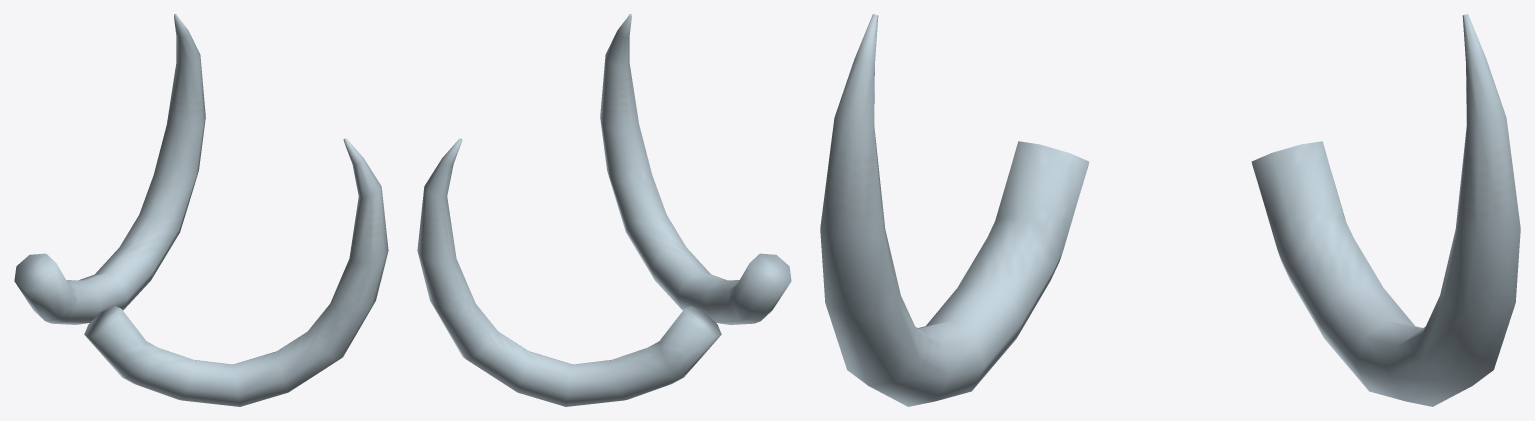
Rendered from Oni.glb.
The picture shows the model from 3 angles, left to right: view 1: azimuth 30°, elevation 25°; view 2: azimuth 150°, elevation 25°; view 3: azimuth 270°, elevation 25°; orthographic projection. The views are drawn at different scales.
Parts seen in each view (by area): view 1: Oni; view 2: Oni; view 3: Oni.
Boxes of the visible parts, x1,y1,x2,y2 form: Oni: (14,14,388,406); Oni: (417,14,791,406); Oni: (820,14,1520,406).
Bounding box in the file's own units: 0.5282 × 0.5478 × 0.7636.
1 material, 1 textured.
